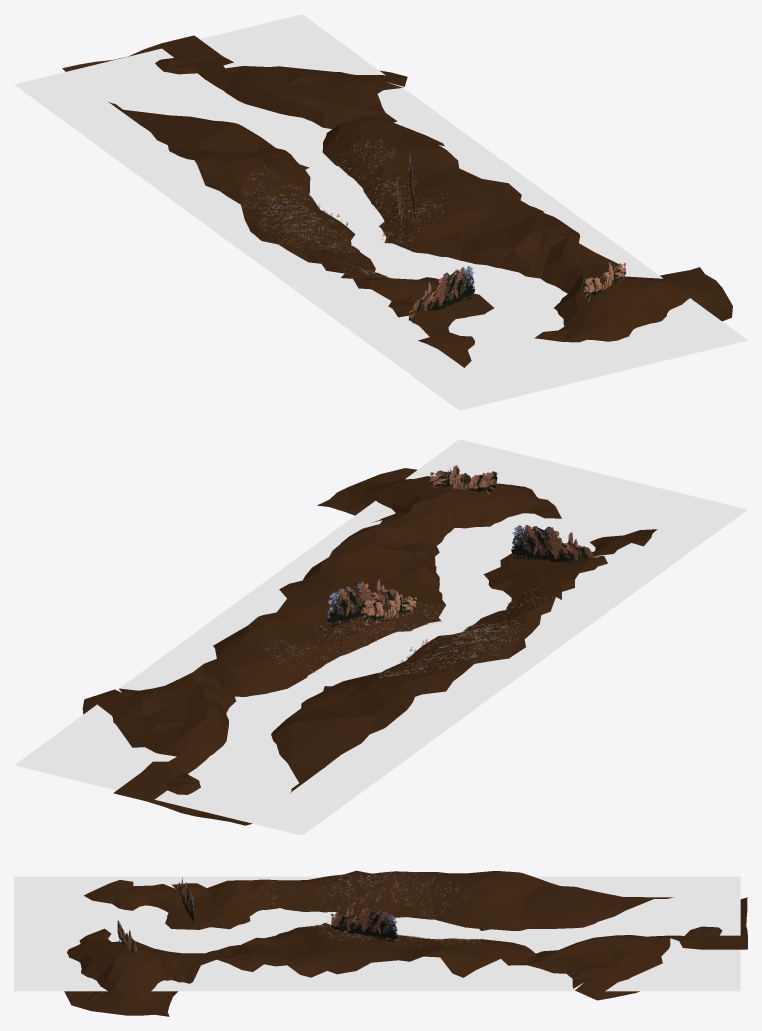
The picture shows the model from 3 angles, top to bottom: view 1: azimuth 30°, elevation 25°; view 2: azimuth 150°, elevation 25°; view 3: azimuth 270°, elevation 25°; orthographic projection. The views are drawn at different scales.
Parts seen in each view (by area): view 1: Plan_eau, Sol, trees.001, tree-2.001; view 2: Plan_eau, Sol, trees.001, trees, tree-2.001, tree-2; view 3: Sol, Plan_eau, trees, trees.001, tree-2.001.
Part boxes in pixels (x1=…): Plan_eau: x1=14, y1=14, x2=747, y2=410; Sol: x1=62, y1=35, x2=732, y2=367; trees.001: x1=408, y1=266, x2=474, y2=323; tree-2.001: x1=583, y1=262, x2=626, y2=305; Plan_eau: x1=14, y1=439, x2=747, y2=835; Sol: x1=82, y1=468, x2=657, y2=825; trees.001: x1=511, y1=525, x2=598, y2=562; trees: x1=327, y1=579, x2=402, y2=626; tree-2.001: x1=429, y1=465, x2=497, y2=497; tree-2: x1=360, y1=591, x2=416, y2=626; Sol: x1=64, y1=870, x2=747, y2=1016; Plan_eau: x1=14, y1=876, x2=740, y2=991; trees: x1=331, y1=906, x2=397, y2=942; trees.001: x1=177, y1=877, x2=194, y2=924; tree-2.001: x1=117, y1=920, x2=137, y2=956.
Size of what is drawn, in the model's own units: 130 by 23.97 by 301.
8 materials, 4 textured.
